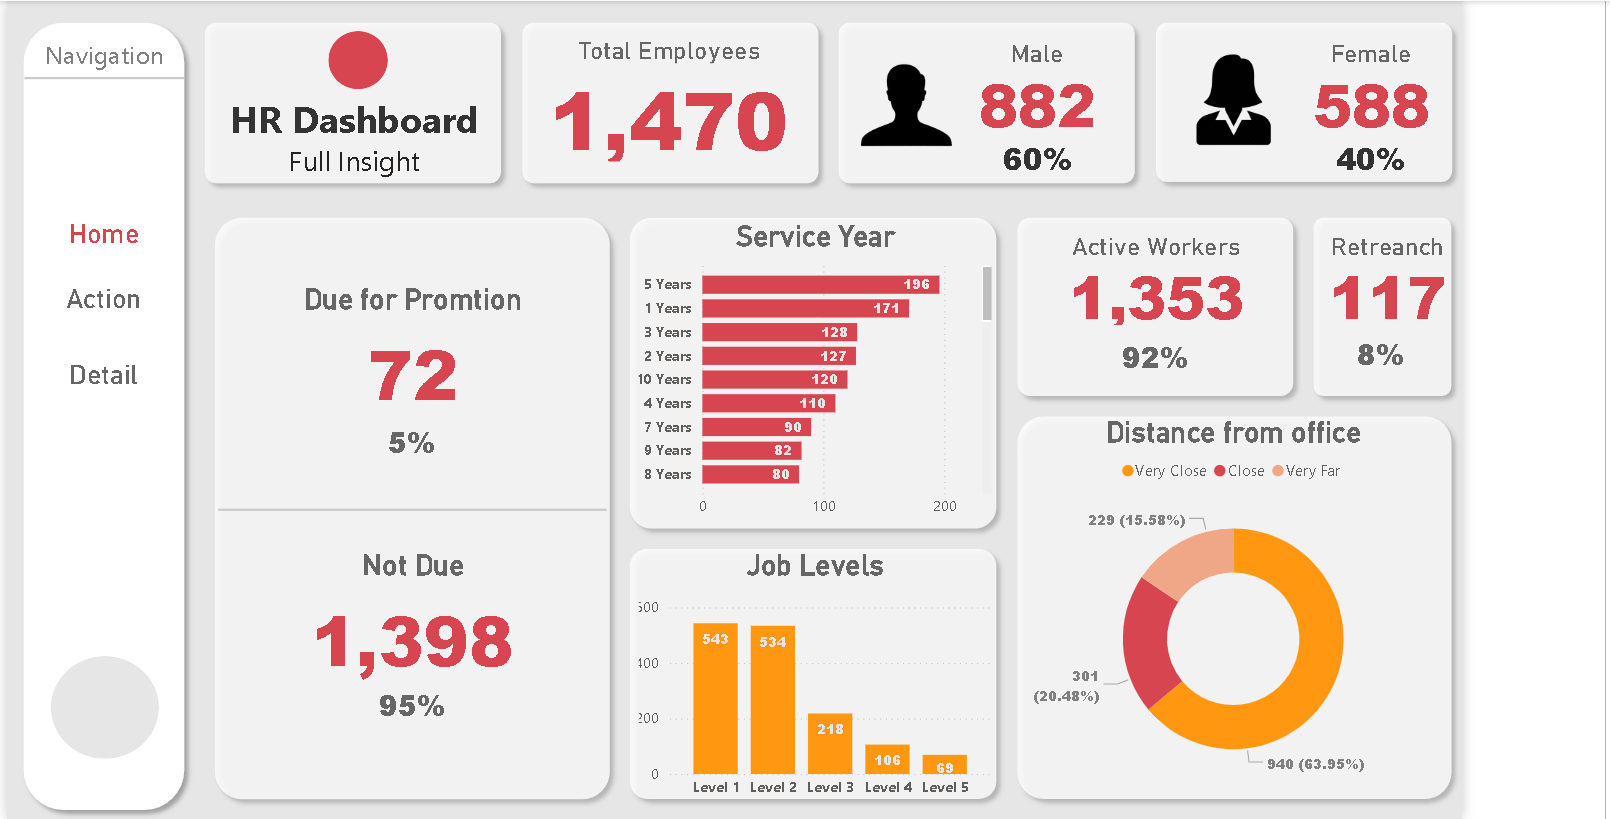

The page's visual inventory and layout, read from the dashboard file:
{"tool":"powerbi","page":{"name":"Home","canvas":[1280,720],"ordinal":0},"visuals":[{"type":"shape","box":[6,9.5,159.5,710.7],"z":0},{"type":"shape","box":[165.5,9.5,278.6,159.5],"z":1000},{"type":"shape","box":[444,9.5,278.6,159.5],"z":2000},{"type":"shape","box":[722.6,9.5,278.6,159.5],"z":3000},{"type":"shape","box":[1001.2,9.5,278.6,158.3],"z":4000},{"type":"shape","box":[173.8,181,365.5,529.8],"z":5000},{"type":"shape","box":[539.3,181,340.5,291.7],"z":6000},{"type":"shape","box":[539.3,472.6,340.5,238.1],"z":7000},{"type":"shape","box":[879.8,181,260.7,175],"z":8000},{"type":"shape","box":[1140.5,181,139.3,175],"z":9000},{"type":"shape","box":[879.8,356,400,354.8],"z":10000},{"type":"textbox","box":[177.5,77.5,257.5,66.2],"z":11000},{"type":"textbox","box":[176.2,118.8,260,50],"z":12000},{"type":"shape","box":[282.5,26.2,52.5,51.2],"z":13000},{"type":"card","title":"Total Employees","fields":{"Values":["All Measures.Total Emp"]},"box":[470,31.2,226.2,115],"z":14000},{"type":"card","title":"Male","fields":{"Values":["All Measures.Male"]},"box":[837.5,33.8,137.5,87.5],"z":15000},{"type":"card","title":"Male","fields":{"Values":["All Measures.% Male"]},"box":[855,115,102.5,47.5],"z":16000},{"type":"card","title":"Female","fields":{"Values":["All Measures.Female"]},"box":[1131.2,33.8,137.5,87.5],"z":17000},{"type":"card","title":"Male","fields":{"Values":["All Measures.% Female"]},"box":[1148.8,115,102.5,47.5],"z":18000},{"type":"image","box":[701.2,10,178.8,163.8],"z":19000},{"type":"image","box":[1018.8,31.2,121.2,112.5],"z":20000},{"type":"card","title":"Due for Promtion","fields":{"Values":["All Measures.Due for promotion"]},"box":[185.7,247.9,342.9,127.4],"z":21000},{"type":"card","fields":{"Values":["All Measures.% Due for promotion"]},"box":[184.5,359.5,342.9,58.3],"z":22000},{"type":"card","title":"Not Due","fields":{"Values":["All Measures.Not Due"]},"box":[185.7,482.1,342.9,127.4],"z":23000},{"type":"card","fields":{"Values":["All Measures.% Not Due"]},"box":[185.7,591.7,342.9,58.3],"z":24000},{"type":"shape","box":[185.7,439.3,341.7,15.5],"z":25000},{"type":"barChart","title":"Service Year","fields":{"Category":["HR Analytics Data.Service Year"],"Y":["All Measures.Total Emp"]},"box":[551.2,192.9,320.2,270.2],"z":26000},{"type":"columnChart","title":"Job Levels","fields":{"Category":["HR Analytics Data.Job Levels"],"Y":["All Measures.Total Emp"]},"box":[551.2,482.1,320.2,228.6],"z":27000},{"type":"card","title":"Active Workers","fields":{"Values":["All Measures.On Service"]},"box":[889.3,203.6,242.9,86.9],"z":28000},{"type":"card","title":"Male","fields":{"Values":["All Measures.% On Service"]},"box":[889.3,290.5,241.7,47.6],"z":29000},{"type":"card","title":"Retreanch","fields":{"Values":["All Measures.Will be retreanched"]},"box":[1148.8,203.6,131,86.9],"z":30000},{"type":"card","title":"Male","fields":{"Values":["All Measures.%Will be Retreanched"]},"box":[1148.8,288.1,119,47.6],"z":31000},{"type":"donutChart","title":"Distance from office","fields":{"Category":["HR Analytics Data.Distance status"],"Y":["All Measures.Total Emp"]},"box":[889.3,365.5,378.6,334.5],"z":32000},{"type":"shape","box":[38.1,576.2,95.2,90.5],"z":33000},{"type":"textbox","box":[15.5,26.2,140.5,46.4],"z":34000},{"type":"shape","box":[15.5,58.3,140.5,19],"z":35000},{"type":"actionButton","title":"Home","box":[15.4,190.7,140.1,30.2],"z":36000},{"type":"actionButton","title":"Action","box":[15.3,247.7,139.8,56.7],"z":37000},{"type":"actionButton","title":"Detail","box":[15.3,314.9,139.8,58],"z":38000}]}

Visuals, with their boxes on the page's 1280x720 design canvas (x1, y1, x2, y2). These are canvas units, not pixel positions in the 1610x819 screenshot, which may show the page scaled, cropped or inside an application window:
shape: l=6, t=10, r=166, b=720
shape: l=166, t=10, r=444, b=169
shape: l=444, t=10, r=723, b=169
shape: l=723, t=10, r=1001, b=169
shape: l=1001, t=10, r=1280, b=168
shape: l=174, t=181, r=539, b=711
shape: l=539, t=181, r=880, b=473
shape: l=539, t=473, r=880, b=711
shape: l=880, t=181, r=1140, b=356
shape: l=1140, t=181, r=1280, b=356
shape: l=880, t=356, r=1280, b=711
textbox: l=178, t=78, r=435, b=144
textbox: l=176, t=119, r=436, b=169
shape: l=282, t=26, r=335, b=77
"Total Employees" card: l=470, t=31, r=696, b=146
"Male" card: l=838, t=34, r=975, b=121
"Male" card: l=855, t=115, r=958, b=162
"Female" card: l=1131, t=34, r=1269, b=121
"Male" card: l=1149, t=115, r=1251, b=162
image: l=701, t=10, r=880, b=174
image: l=1019, t=31, r=1140, b=144
"Due for Promtion" card: l=186, t=248, r=529, b=375
card - All Measures.% Due for promotion: l=184, t=360, r=527, b=418
"Not Due" card: l=186, t=482, r=529, b=610
card - All Measures.% Not Due: l=186, t=592, r=529, b=650
shape: l=186, t=439, r=527, b=455
"Service Year" barChart: l=551, t=193, r=871, b=463
"Job Levels" columnChart: l=551, t=482, r=871, b=711
"Active Workers" card: l=889, t=204, r=1132, b=290
"Male" card: l=889, t=290, r=1131, b=338
"Retreanch" card: l=1149, t=204, r=1280, b=290
"Male" card: l=1149, t=288, r=1268, b=336
"Distance from office" donutChart: l=889, t=366, r=1268, b=700
shape: l=38, t=576, r=133, b=667
textbox: l=16, t=26, r=156, b=73
shape: l=16, t=58, r=156, b=77
"Home" actionButton: l=15, t=191, r=156, b=221
"Action" actionButton: l=15, t=248, r=155, b=304
"Detail" actionButton: l=15, t=315, r=155, b=373
